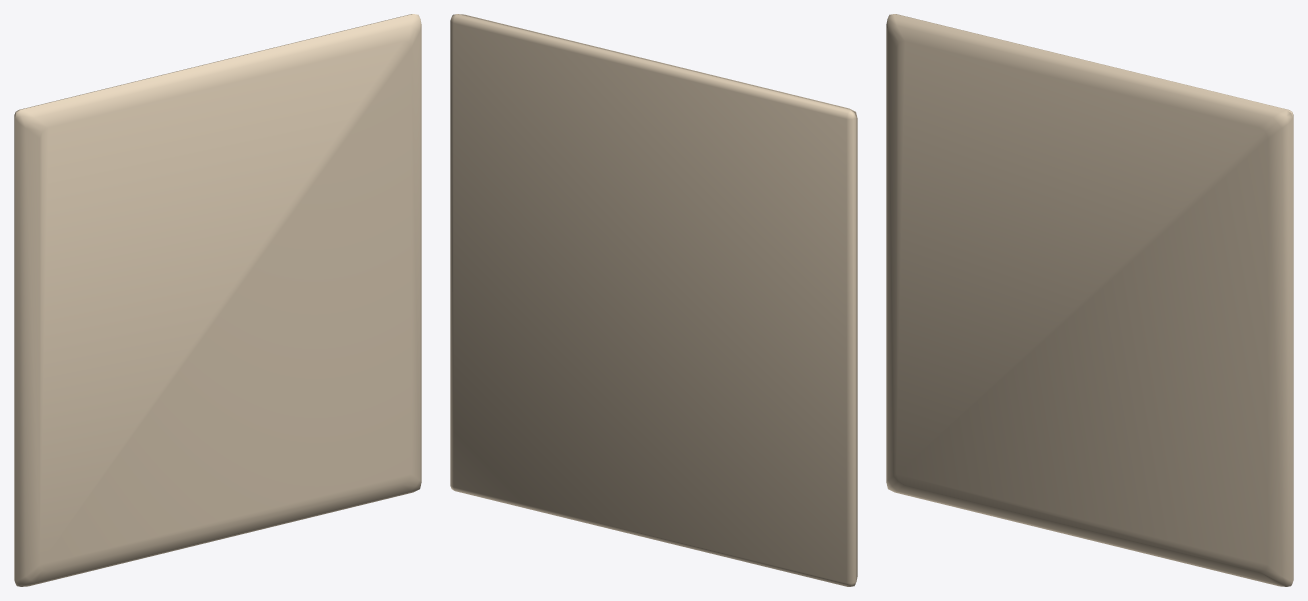
File: Closet_door.fbx
3 renders of one model, left to right at view 1: azimuth 30°, elevation 25°; view 2: azimuth 150°, elevation 25°; view 3: azimuth 330°, elevation 25°, orthographic.
Parts seen in each view (by area): view 1: Closet_door; view 2: Closet_door; view 3: Closet_door.
Boxes of the visible parts, box(x1,y1,x2,y2) form: Closet_door: box(14, 14, 421, 586); Closet_door: box(450, 14, 857, 586); Closet_door: box(886, 14, 1293, 586).
Bounding box in the file's own units: 44.1 × 49.58 × 2.19.
